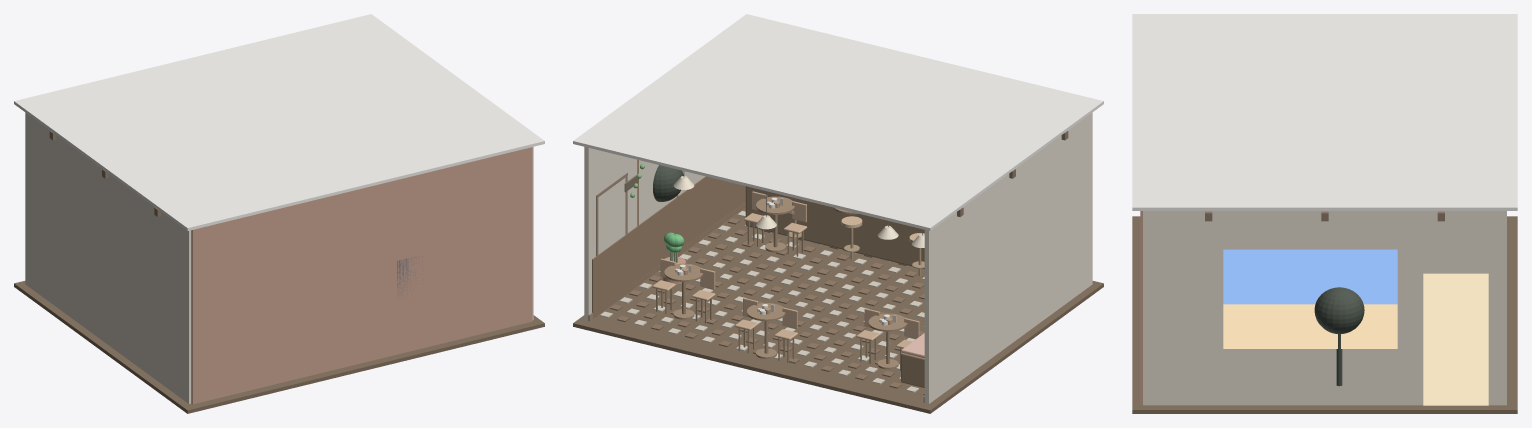
Rendered from cafe.glb.
3 renders of one model, left to right at view 1: azimuth 30°, elevation 25°; view 2: azimuth 150°, elevation 25°; view 3: azimuth 270°, elevation 25°, orthographic. The views are drawn at different scales.
Parts seen in each view (by area): view 1: Ceiling, WBack, WLeft, FloorBase; view 2: Ceiling, WLeft, FloorBase, WainsR, WRight, Counter, TreeLeaf, Bench, T2_Top, T4_Top, T1_Top, T5_Top; view 3: Ceiling, WRight, SkyTop, DoorGlow, FloorBase, SkyBot, TreeLeaf, WBack.
Part boxes in pixels (x1,y1,x2,y2): Ceiling: (14, 14, 544, 230); WBack: (191, 147, 532, 404); WLeft: (25, 112, 191, 403); FloorBase: (14, 281, 544, 413); Ceiling: (573, 14, 1103, 230); WLeft: (924, 112, 1092, 403); FloorBase: (573, 207, 1103, 413); WainsR: (592, 176, 745, 318); WRight: (584, 147, 704, 320); Counter: (745, 186, 924, 269); TreeLeaf: (653, 165, 683, 201); Bench: (901, 352, 924, 387); T2_Top: (664, 263, 703, 281); T4_Top: (756, 196, 794, 214); T1_Top: (868, 313, 907, 331); T5_Top: (747, 303, 785, 321); Ceiling: (1132, 14, 1517, 210); WRight: (1143, 211, 1506, 405); SkyTop: (1223, 249, 1397, 304); DoorGlow: (1423, 273, 1488, 405); FloorBase: (1132, 216, 1517, 413); SkyBot: (1223, 304, 1397, 348); TreeLeaf: (1314, 287, 1364, 334); WBack: (1140, 211, 1142, 403).
Bounding box in the file's own units: 6.51 × 3.13 × 5.3.
